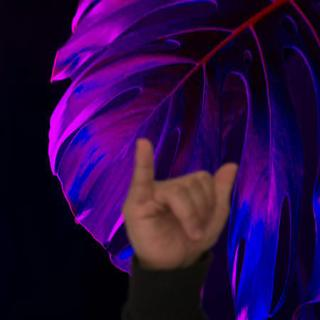HAVE: (112, 132, 250, 274)
